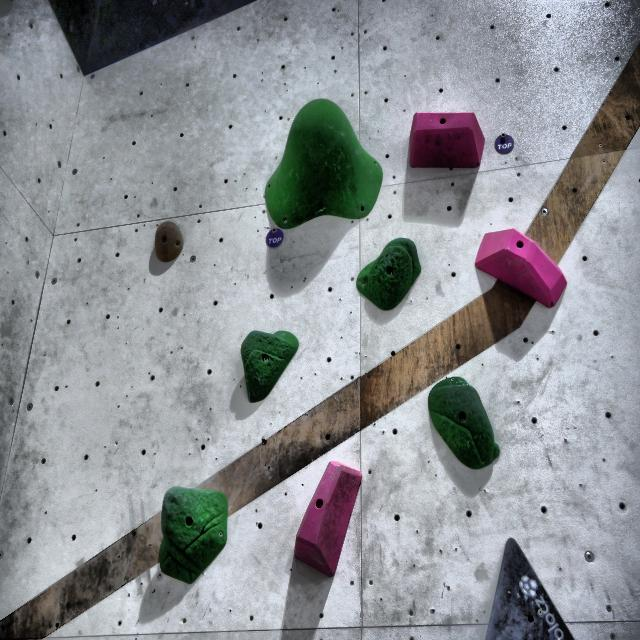Hold: (263, 97, 385, 226), (293, 456, 368, 581), (154, 486, 231, 582), (476, 224, 566, 306), (425, 375, 499, 466), (410, 100, 485, 173), (356, 237, 424, 317), (236, 313, 299, 399)
